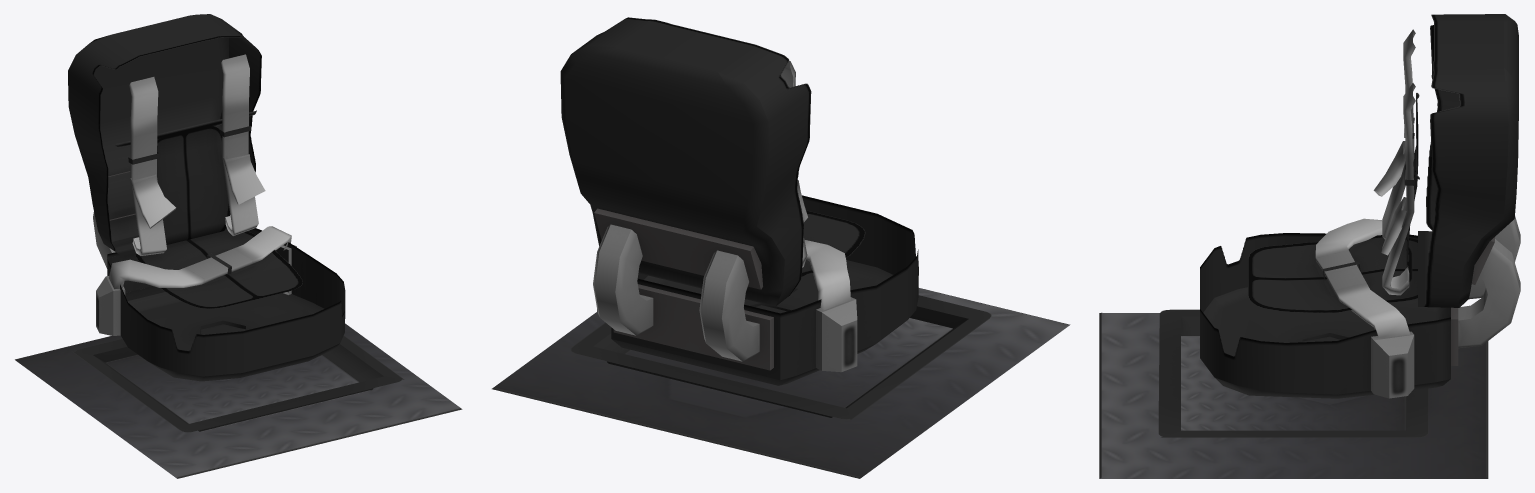
Rendered from obj_interactive_seat_03.fbx.
3 renders of one model, left to right at view 1: azimuth 30°, elevation 25°; view 2: azimuth 150°, elevation 25°; view 3: azimuth 270°, elevation 25°, orthographic. The views are drawn at different scales.
Parts seen in each view (by area): view 1: obj_interactive_seat_03; view 2: obj_interactive_seat_03; view 3: obj_interactive_seat_03.
Boxes of the visible parts, x1,y1,x2,y2 form: obj_interactive_seat_03: (15,14,462,478); obj_interactive_seat_03: (492,17,1070,478); obj_interactive_seat_03: (1099,14,1520,478).
Bounding box in the file's own units: 3.5 × 3.45 × 3.75.
